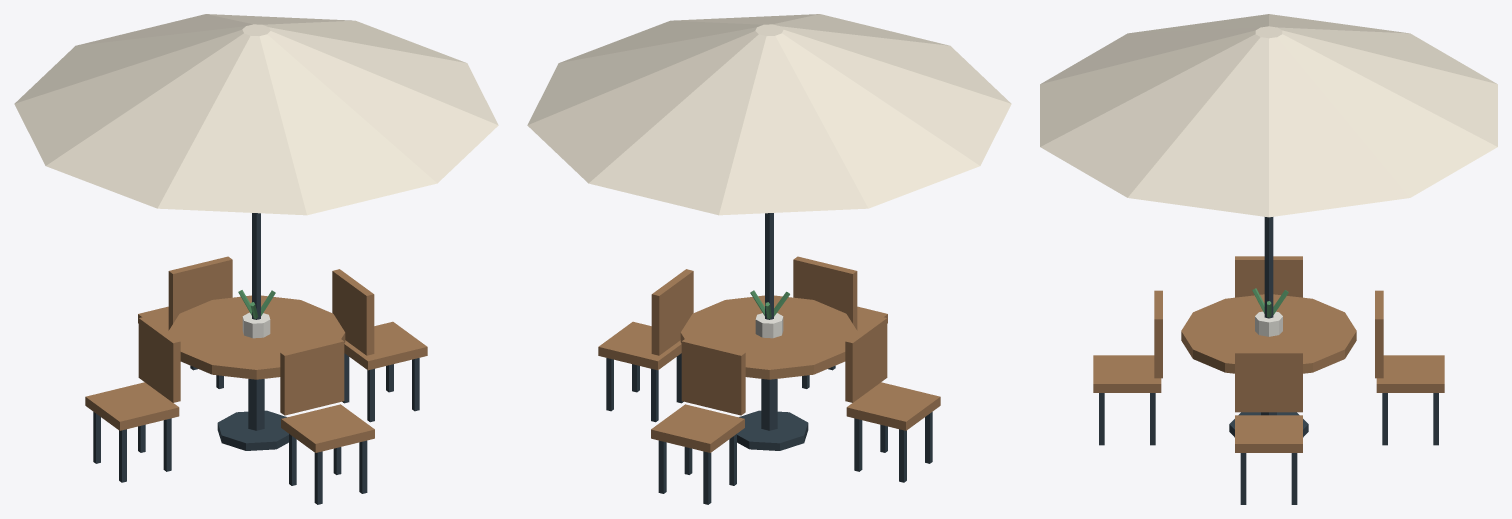
The model's file is CafeSet.fbx.
3 views of the same model, side by side, from view 1: azimuth 30°, elevation 25°; view 2: azimuth 150°, elevation 25°; view 3: azimuth 270°, elevation 25° (orthographic).
Visible parts, largest first — view 1: CafeSet; view 2: CafeSet; view 3: CafeSet.
Part boxes in pixels (<box>): CafeSet: <box>14,14,498,504</box>; CafeSet: <box>527,14,1011,504</box>; CafeSet: <box>1040,14,1497,504</box>.
Bounding box in the file's own units: 3.4 × 3.13 × 3.23.
